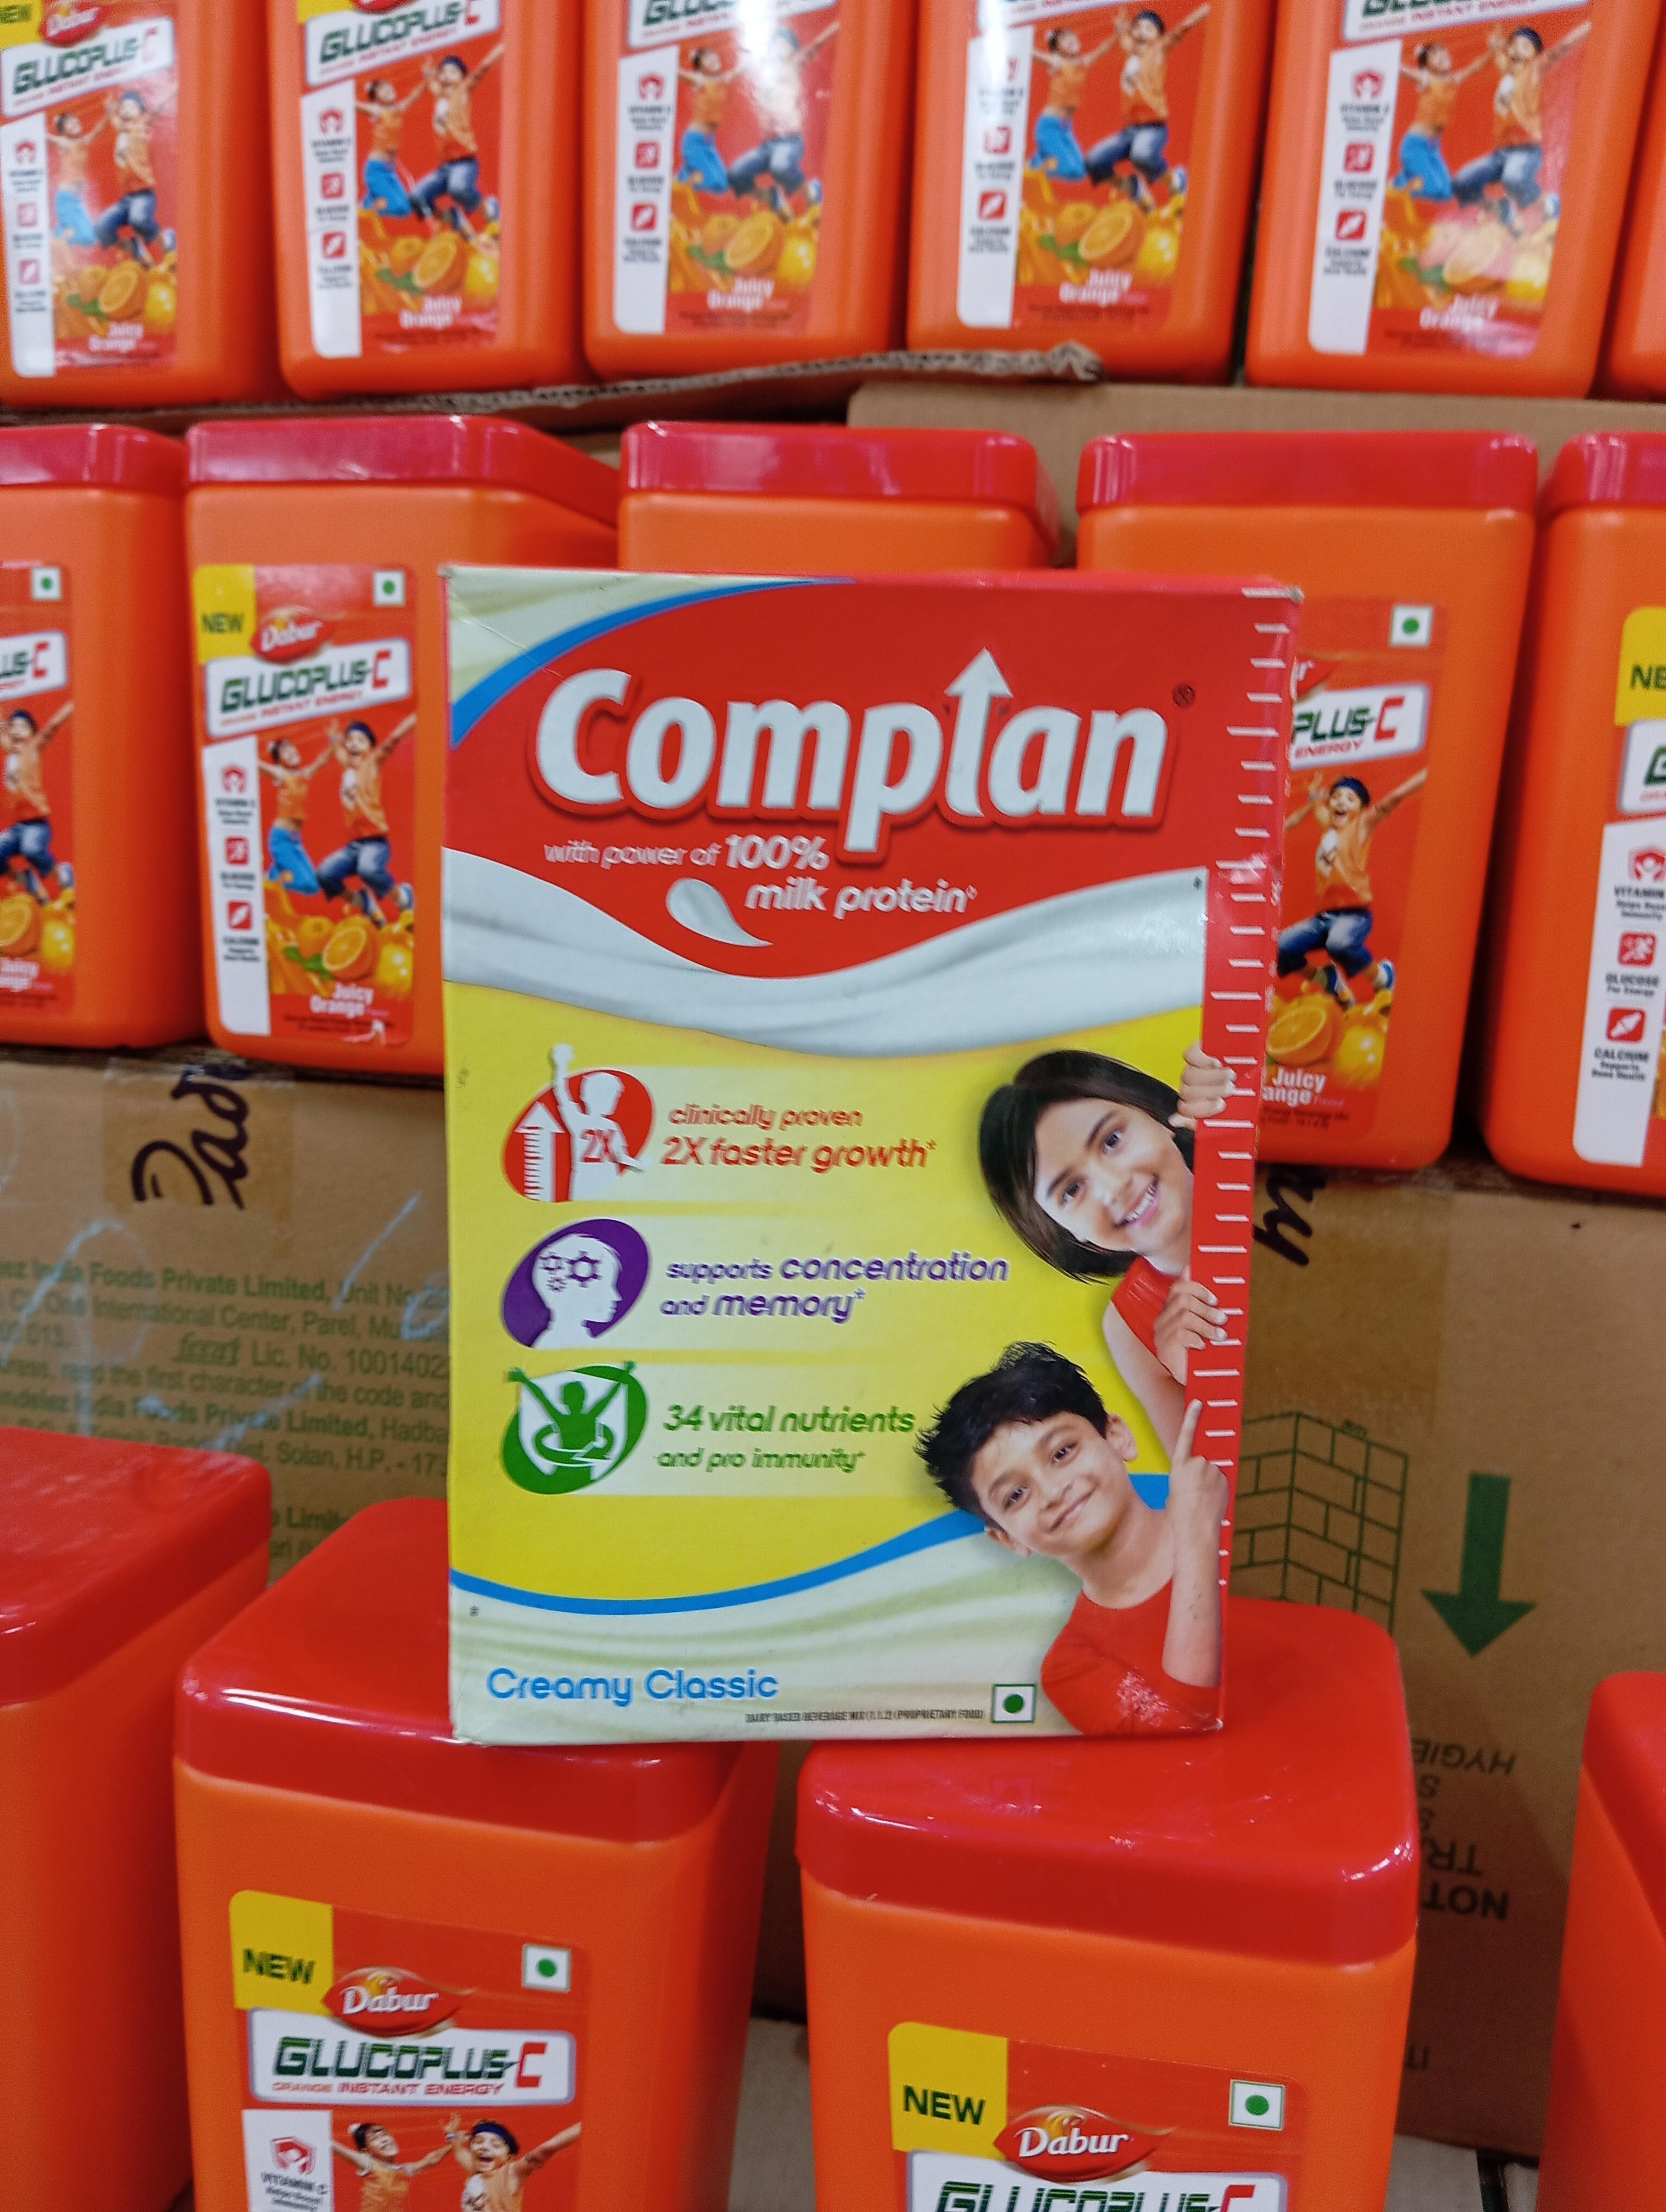COMPLAN_CREAMY_CLASSIC_500_G_PACK: (439, 563, 1253, 1750)
